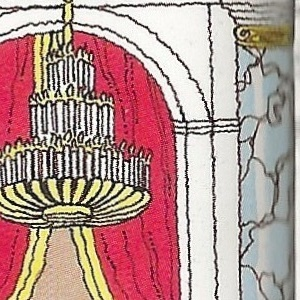Charlie: (242, 6, 270, 54)
